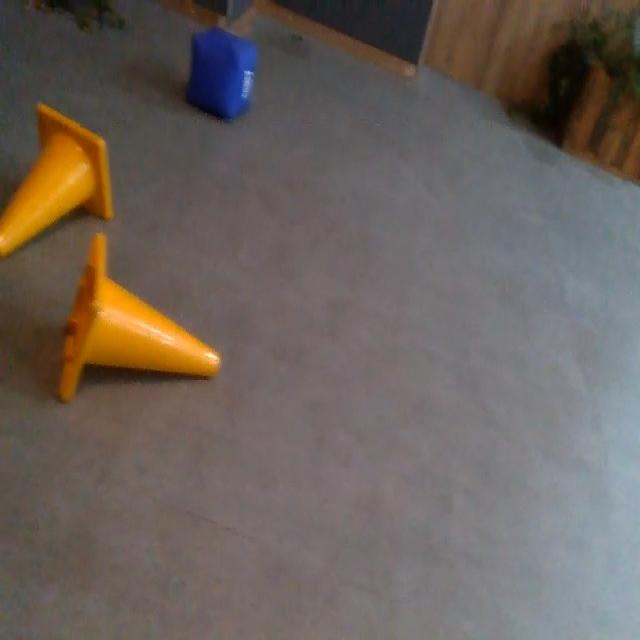cone: (56, 233, 222, 400), (1, 104, 114, 259)
cube: (191, 28, 254, 124)
